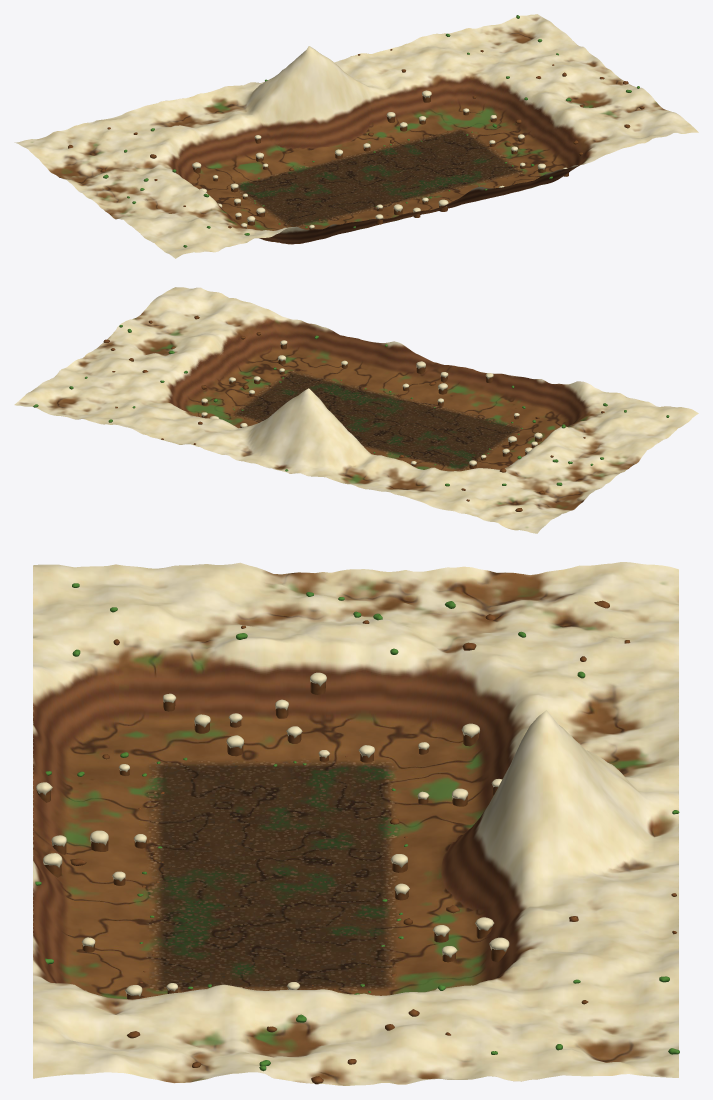
File: surroundings_29x11.glb
3 views of the same model, one above another, from view 1: azimuth 30°, elevation 25°; view 2: azimuth 150°, elevation 25°; view 3: azimuth 270°, elevation 25° (orthographic). The views are drawn at different scales.
Visible parts, largest first — view 1: ground, props; view 2: ground, props; view 3: ground, props.
Boxes of the visible parts, x1,y1,x2,y2 form: ground: (14, 14, 698, 258); props: (68, 15, 644, 247); ground: (14, 287, 698, 533); props: (33, 315, 669, 511); ground: (33, 562, 678, 1085); props: (35, 583, 679, 1084).
Size of the model in its own units: 73.06 by 11.27 by 39.05.
Materials: 2 (2 with a texture image).
